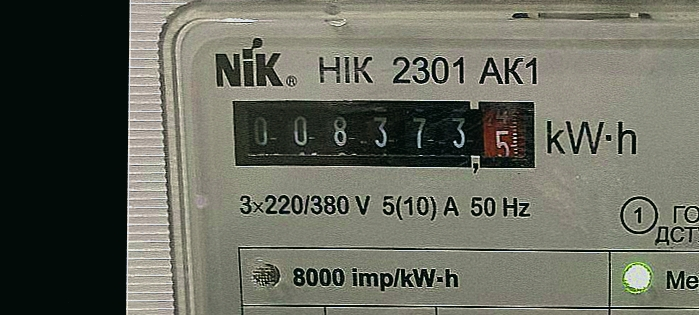0: (252, 113, 273, 149), (292, 112, 312, 148)
3: (449, 114, 472, 151), (371, 113, 393, 150)
4: (495, 106, 513, 127)
5: (495, 127, 515, 158)
7: (411, 113, 430, 152)
8: (331, 113, 353, 149)
screen: (228, 91, 546, 182)
